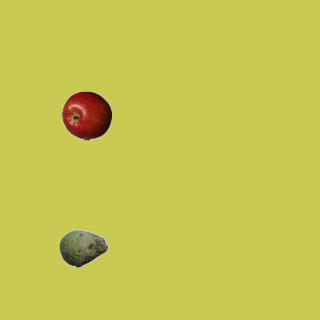Apple Braeburn: (61, 90, 111, 140)
Pear Stone: (58, 223, 108, 273)
